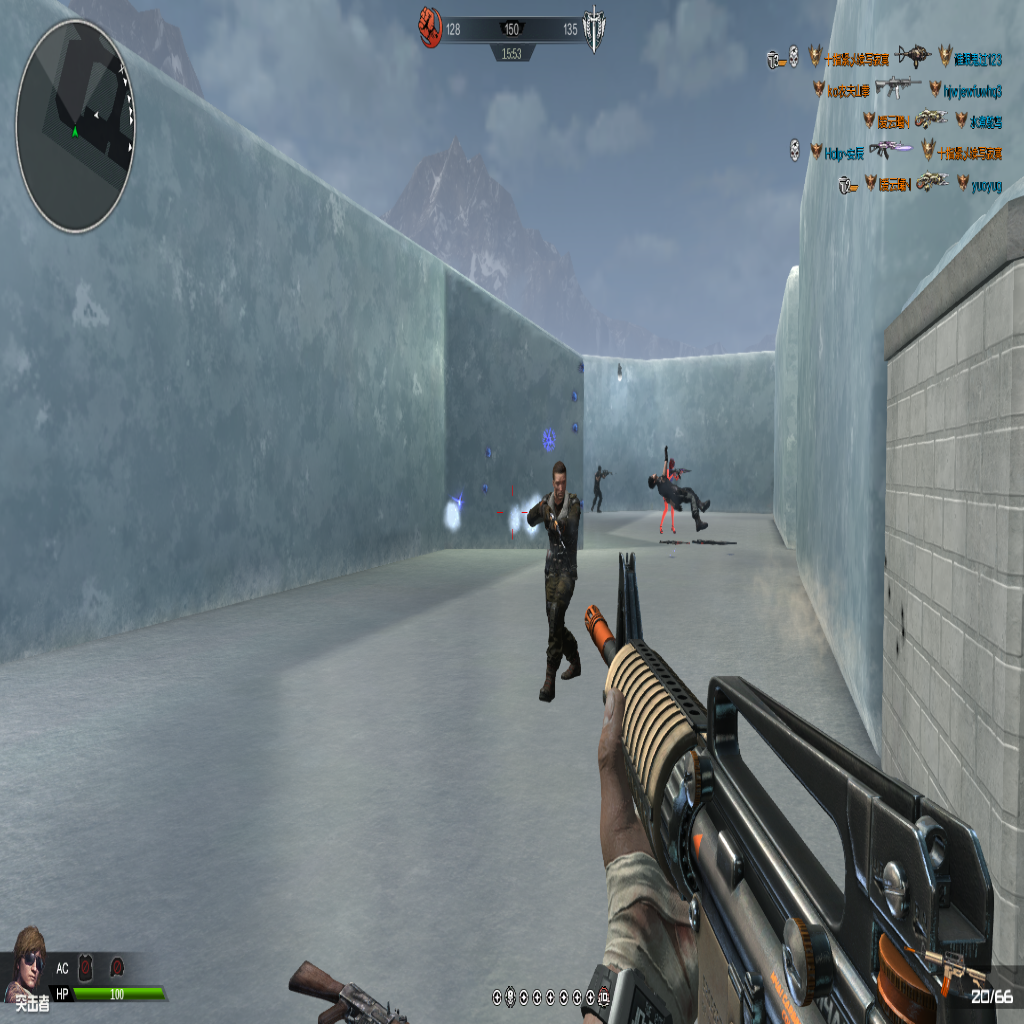ct: (522, 458, 585, 698)
